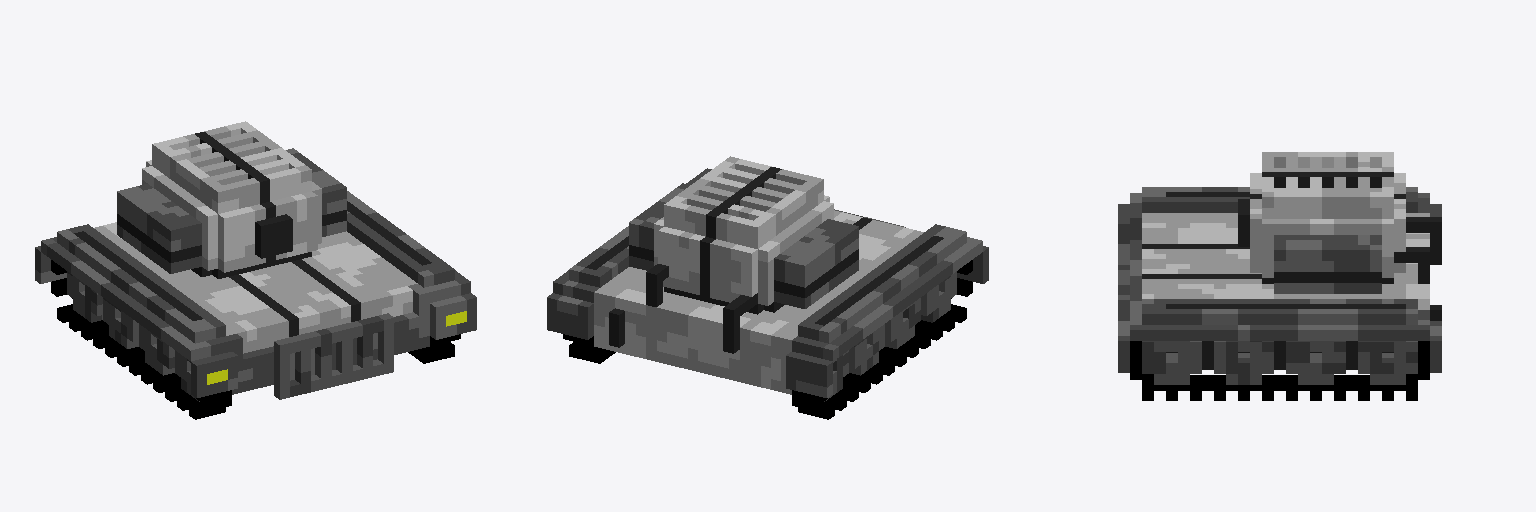
The picture shows the model from 3 angles: view 1: azimuth 30°, elevation 25°; view 2: azimuth 150°, elevation 25°; view 3: azimuth 270°, elevation 25°; orthographic projection.
Parts seen in each view (by area): view 1: object 1; view 2: object 1; view 3: object 1.
Boxes of the visible parts, x1=… form: object 1: x1=35, y1=121, x2=476, y2=419; object 1: x1=547, y1=156, x2=988, y2=419; object 1: x1=1118, y1=152, x2=1441, y2=400.
Bounding box in the file's own units: 2.7 × 1.5 × 2.7.
Materials: 1 (1 with a texture image).